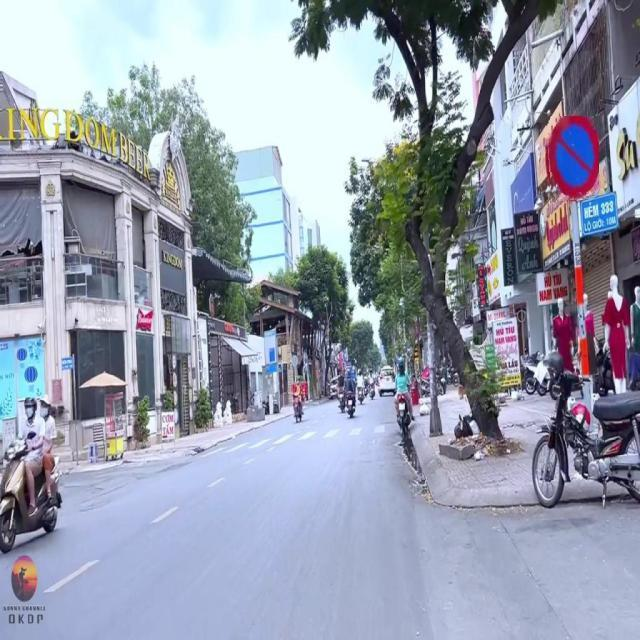131a-cam-do-xe: (546, 116, 601, 198)
